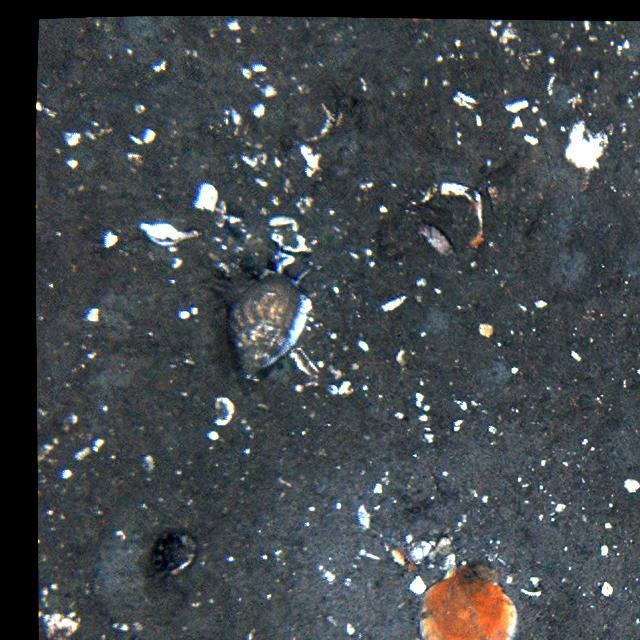whelk: (226, 272, 312, 378)
